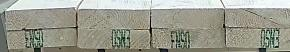Wood-Plank: (151, 8, 225, 29), (6, 8, 76, 30), (78, 9, 150, 30), (151, 29, 225, 49), (77, 28, 150, 48), (7, 28, 77, 48), (226, 8, 290, 29), (226, 29, 290, 48)
